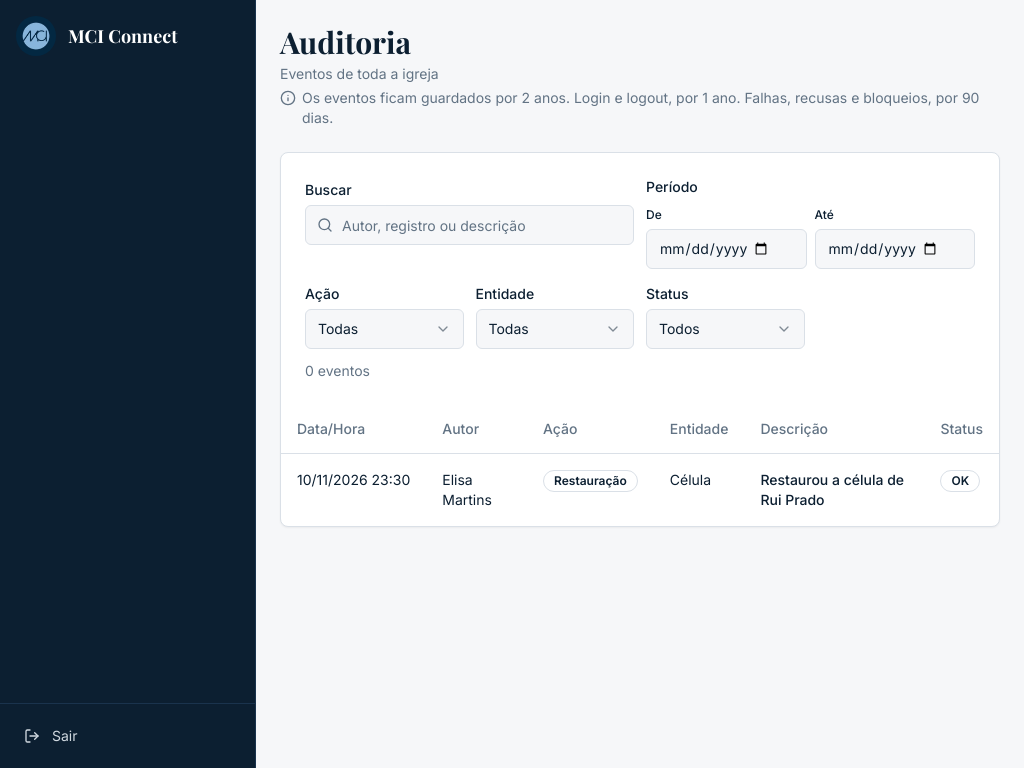
Scenario: Auditoria: data e hora no horário de Brasília, com o navegador em Tóquio › Dado um evento às 02:30 UTC, então a linha mostra '10/11/2026 23:30' e o detalhe '10/11/2026 às 23:30' (UX-02)
Expected: the text "Restaurou a célula de Rui Prado" is shown, [760,470,908,510]
Expected: the text "10/11/2026 23:30" is shown, [281,453,426,526]
Click the text "Restaurou a célula de Rui Prado" at (640, 489), box [281,453,999,526]
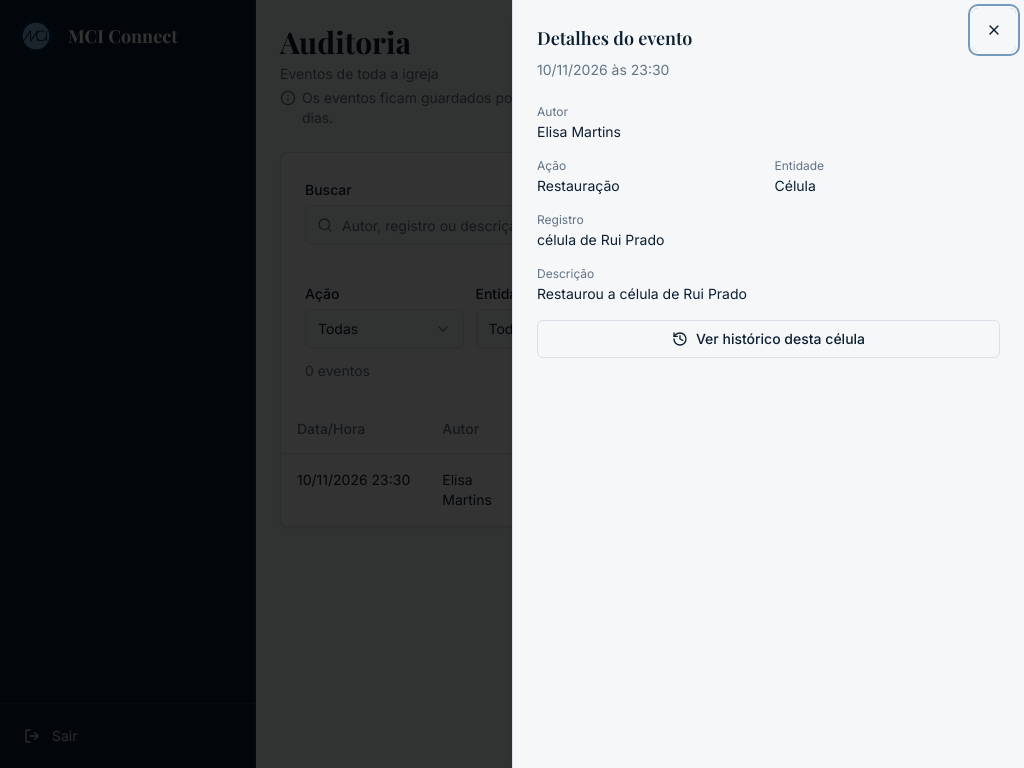
Result: the text "10/11/2026 às 23:30" is shown at [537,61,669,78]
